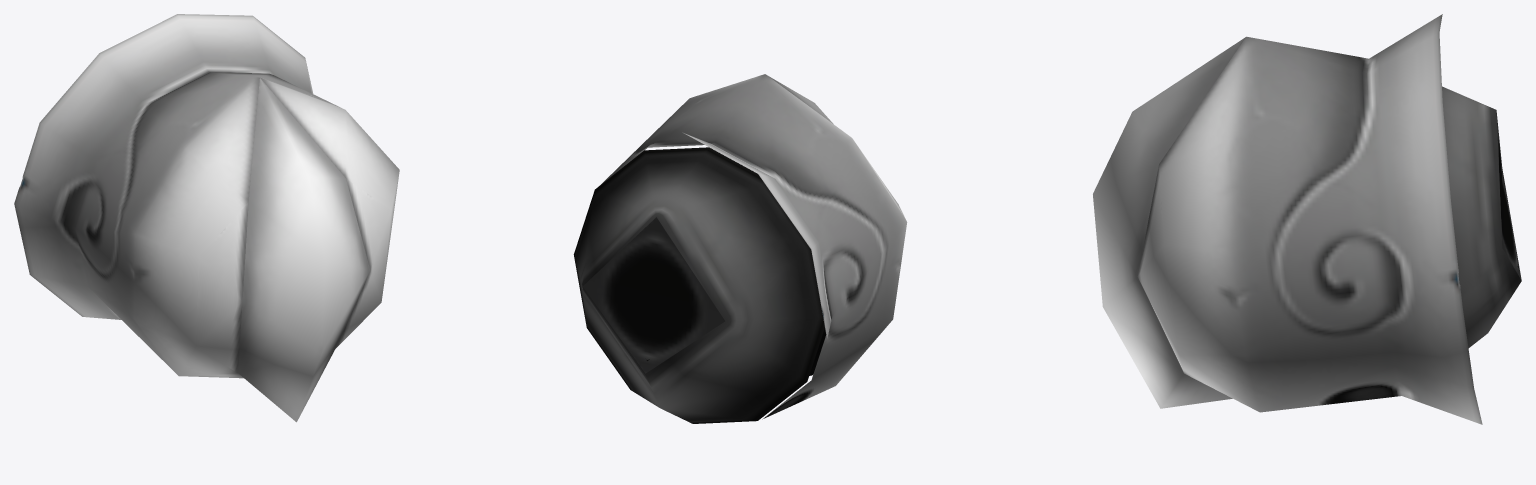
Rendered from rivet.glb.
3 renders of one model, left to right at view 1: azimuth 30°, elevation 25°; view 2: azimuth 150°, elevation 25°; view 3: azimuth 270°, elevation 25°, orthographic. The views are drawn at different scales.
Visible parts, largest first — view 1: pith.model-Mesh[0]; view 2: pith.model-Mesh[0]; view 3: pith.model-Mesh[0].
Boxes of the visible parts, x1=… form: pith.model-Mesh[0]: x1=14, y1=14, x2=399, y2=422; pith.model-Mesh[0]: x1=573, y1=74, x2=907, y2=423; pith.model-Mesh[0]: x1=1093, y1=14, x2=1521, y2=424.
Size of the model in its own units: 0.6148 by 0.6251 by 0.6229.
Materials: 2 (2 with a texture image).
